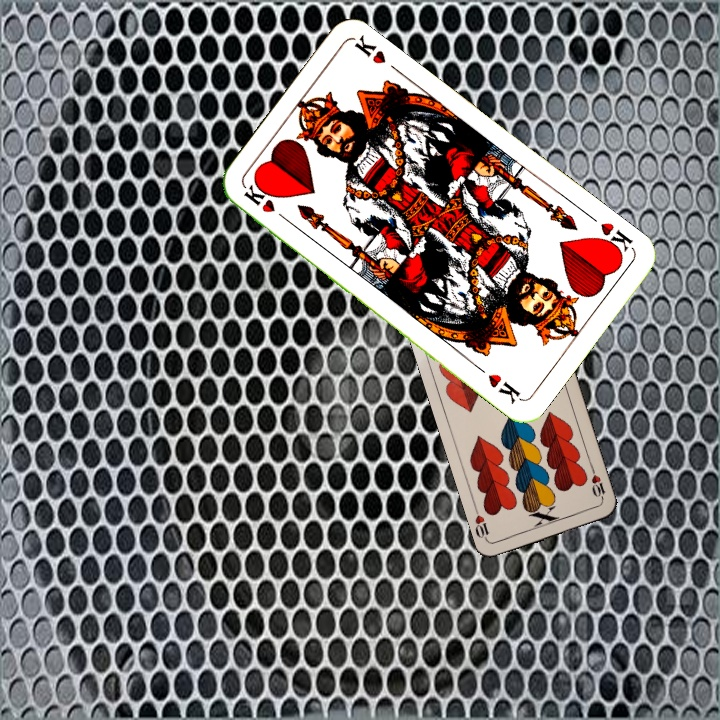H10: (587, 464, 608, 504)
HK: (240, 180, 292, 225), (593, 218, 636, 260)
